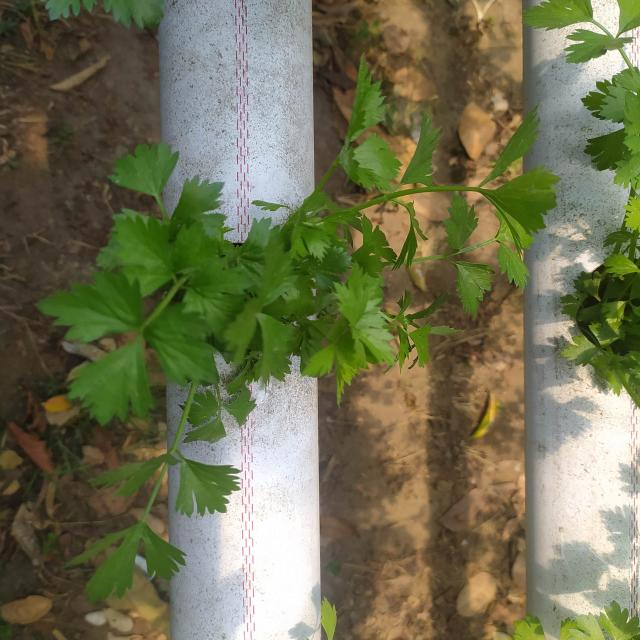Wet Waste: (126, 88, 438, 589)
